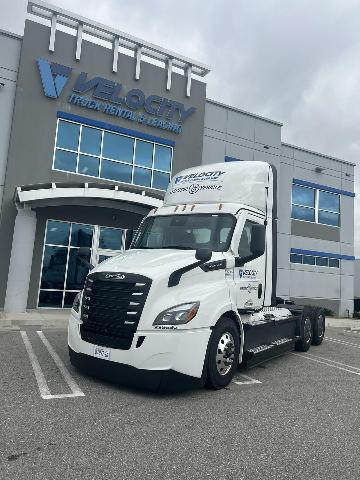truck: (69, 147, 348, 403)
